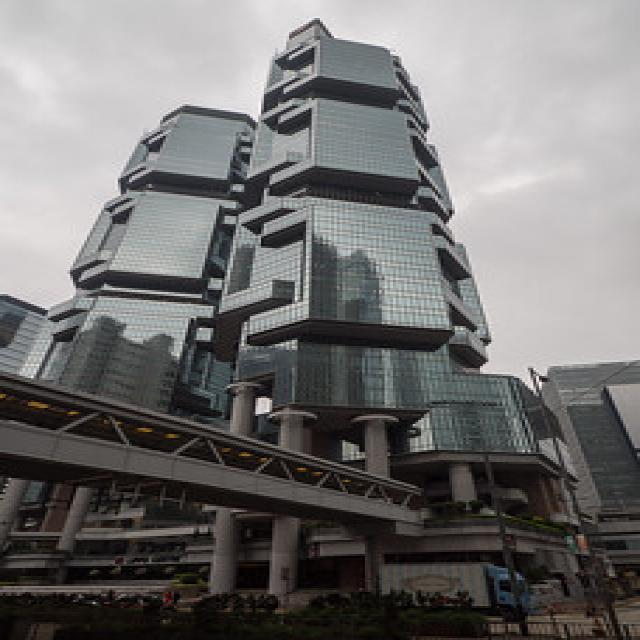Normal_building: (33, 17, 590, 633)
